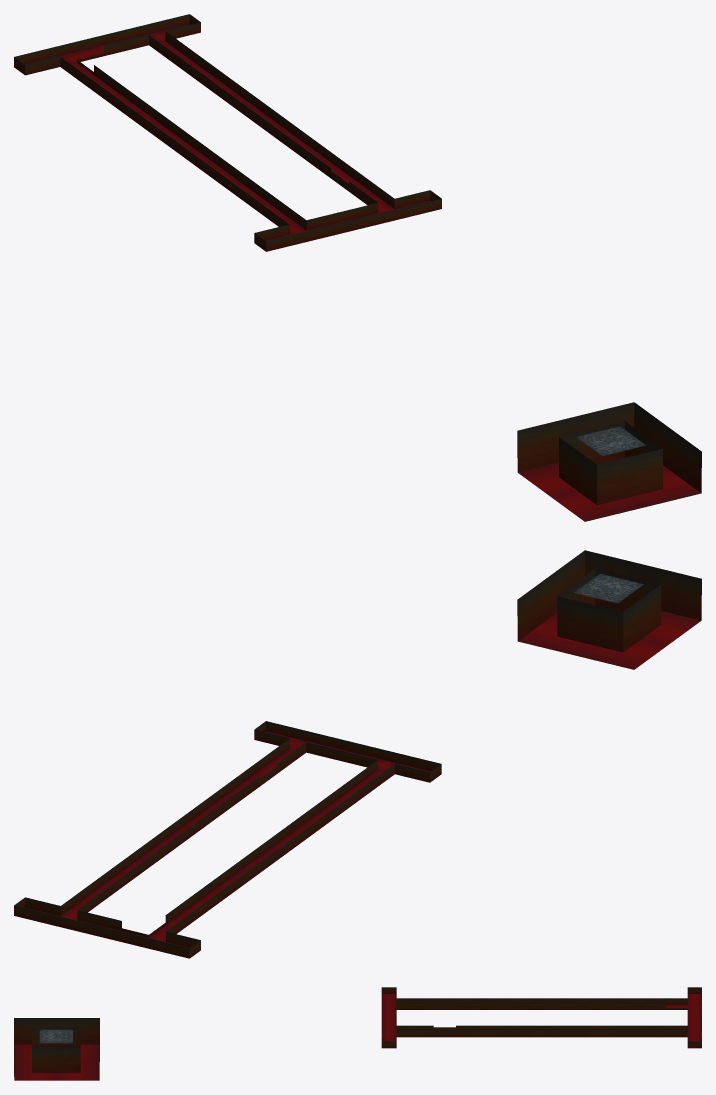
The model's file is tlfb_aocao.FBX.
The picture shows the model from 3 angles, top to bottom: view 1: azimuth 30°, elevation 25°; view 2: azimuth 150°, elevation 25°; view 3: azimuth 270°, elevation 25°; orthographic projection. The views are drawn at different scales.
Visible parts, largest first — view 1: tlfb_aocao; view 2: tlfb_aocao; view 3: tlfb_aocao.
Part boxes in pixels (x1,y1,x2,y2): tlfb_aocao: (14,14,701,521); tlfb_aocao: (14,550,701,958); tlfb_aocao: (14,987,701,1080).
Size of the model in its own units: 528 by 229 by 2817.
